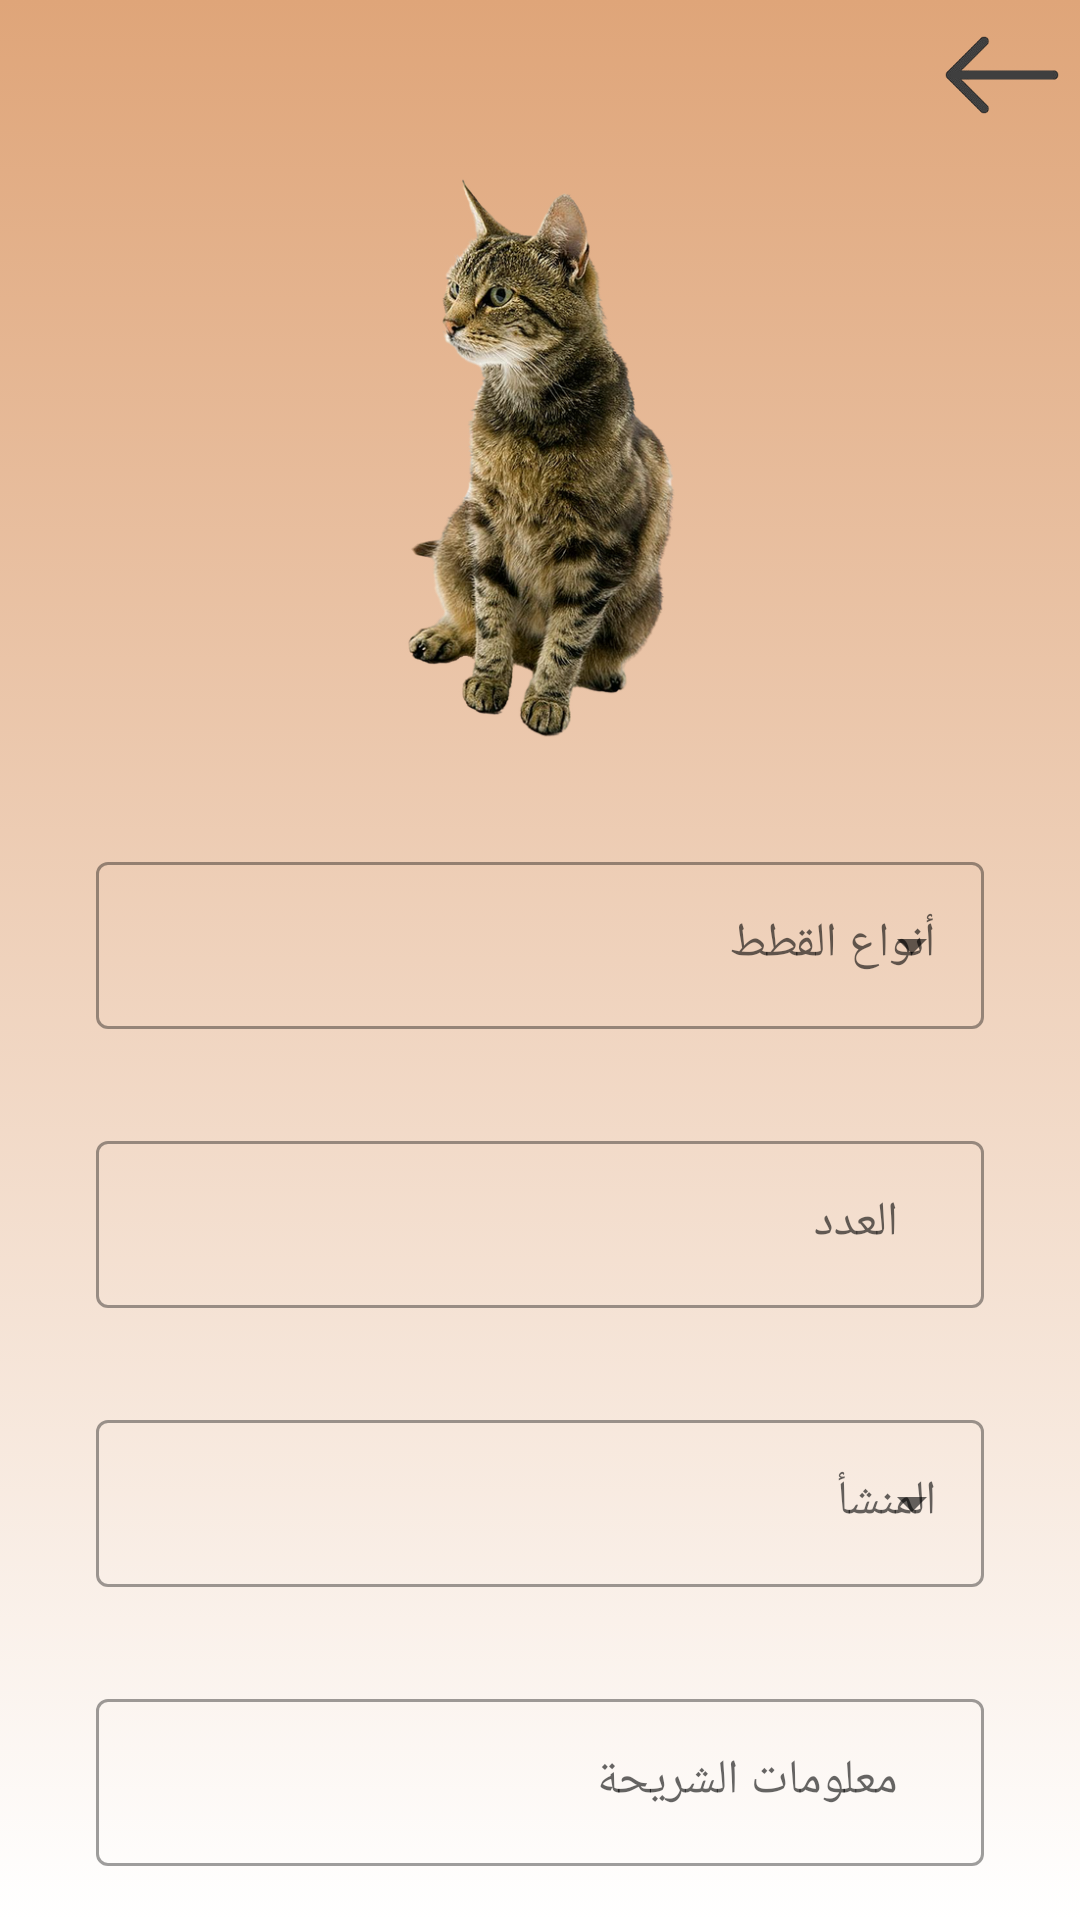

Screen size 1080px x 1920px. Icon name, then its box in pixels as (x1, y1, x2, y2):
back: (945, 36, 1059, 114)
